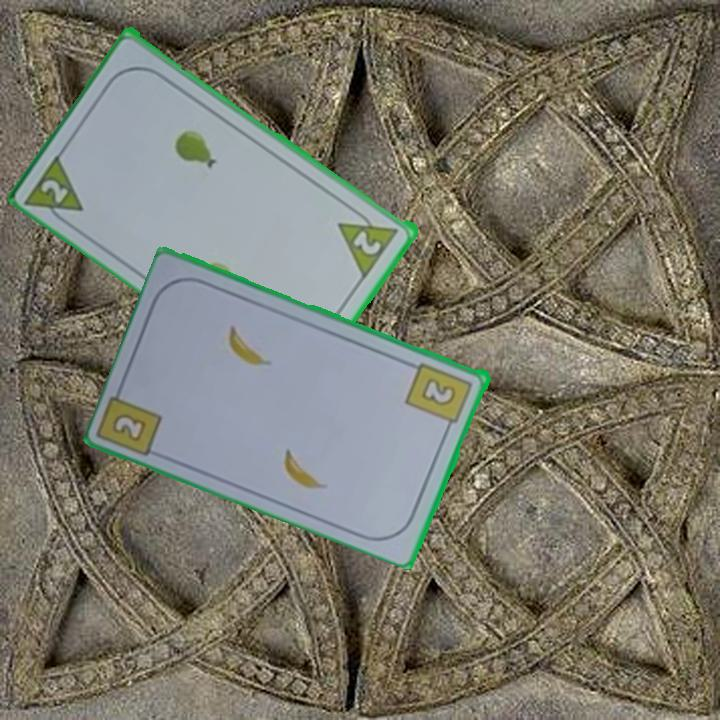2b: (403, 359, 476, 434), (112, 412, 146, 441)
2p: (22, 148, 88, 231), (349, 226, 385, 258)
